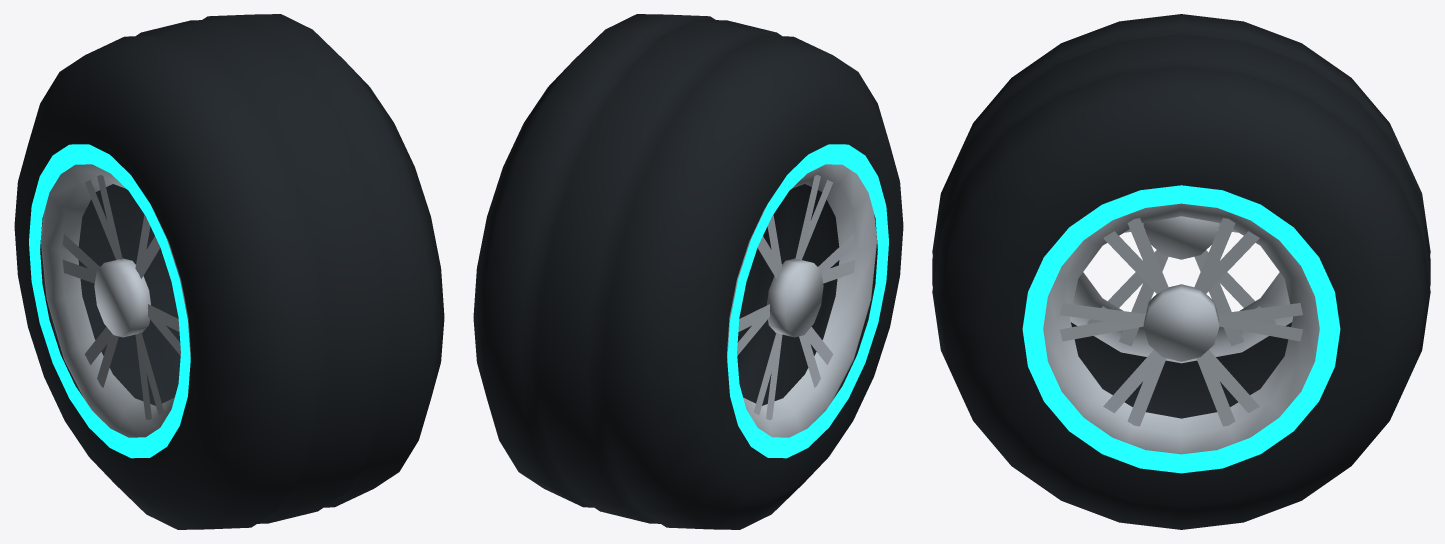
File: kestrel-wheel-v1.glb
The picture shows the model from 3 angles, left to right: view 1: azimuth 30°, elevation 25°; view 2: azimuth 150°, elevation 25°; view 3: azimuth 270°, elevation 25°; orthographic projection.
Visible parts, largest first — view 1: RoundedGroovedTyre, Rim-1, EnergyRing-1; view 2: RoundedGroovedTyre, Rim-1, EnergyRing-1; view 3: RoundedGroovedTyre, Rim-1, EnergyRing-1.
Boxes of the visible parts, <box> form: RoundedGroovedTyre: <box>14,14,444,529</box>; Rim-1: <box>41,164,190,437</box>; EnergyRing-1: <box>29,144,190,458</box>; RoundedGroovedTyre: <box>473,14,903,529</box>; Rim-1: <box>727,164,876,437</box>; EnergyRing-1: <box>727,144,888,458</box>; RoundedGroovedTyre: <box>932,14,1430,529</box>; Rim-1: <box>1043,203,1319,454</box>; EnergyRing-1: <box>1022,185,1340,473</box>.
Bounding box in the file's own units: 0.316 × 0.58 × 0.58.
